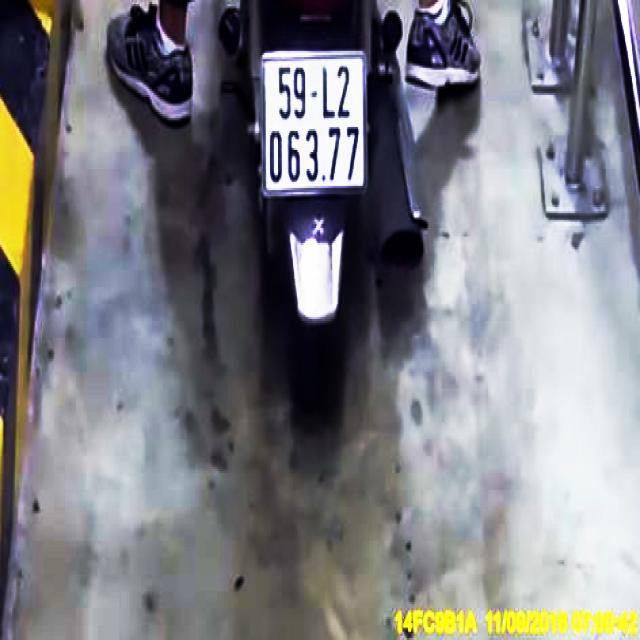license_plate: (266, 54, 365, 196)
